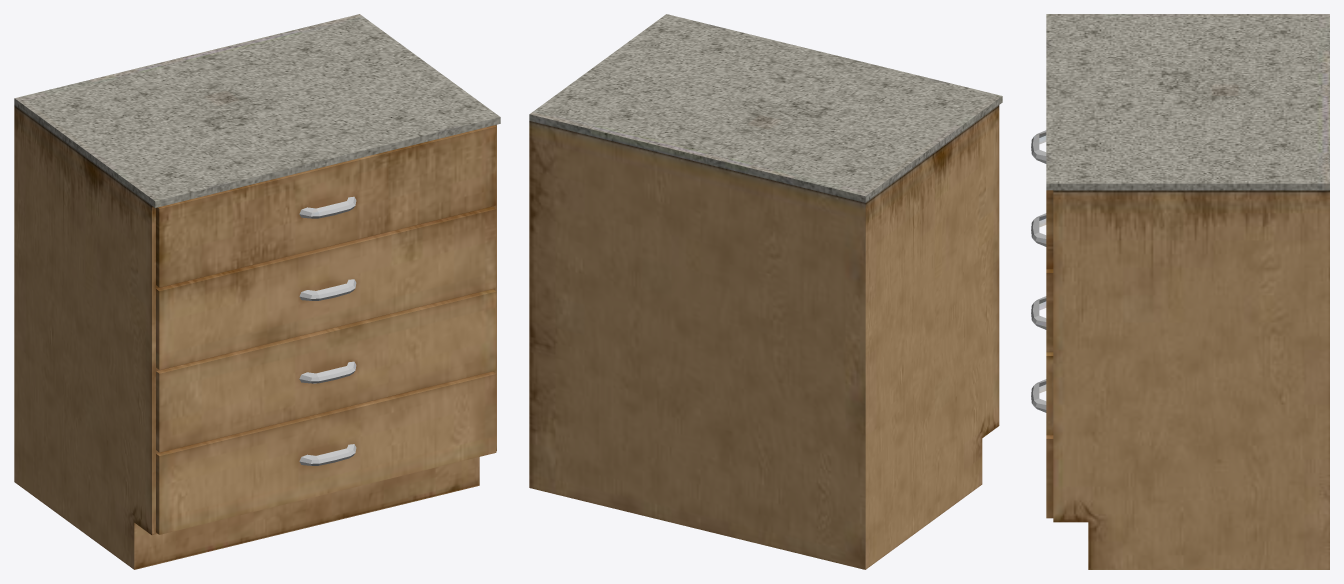
Rendered from armario_baixo_a.glb.
3 views of the same model, side by side, from view 1: azimuth 30°, elevation 25°; view 2: azimuth 150°, elevation 25°; view 3: azimuth 270°, elevation 25° (orthographic). The views are drawn at different scales.
Visible parts, largest first — view 1: armario_baixo_a; view 2: armario_baixo_a; view 3: armario_baixo_a.
Boxes of the visible parts, left/top/right/bottom form: armario_baixo_a: left=14, top=14, right=500, bottom=569; armario_baixo_a: left=529, top=14, right=1002, bottom=569; armario_baixo_a: left=1031, top=14, right=1329, bottom=569.
Size of the model in its own units: 0.8 by 0.85 by 0.5956.
1 material, 1 textured.
